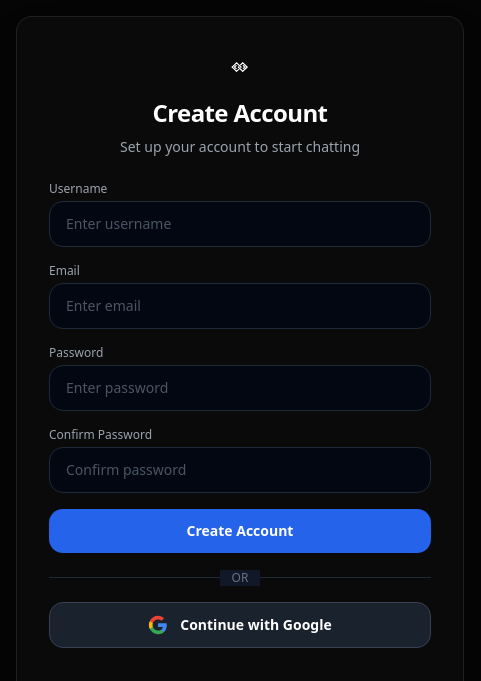
it: Registration page › rejects an invalid email
The image size is (481, 681).
Type "alice" into the field with placeholder "Enter username". click: (240, 224)
box: [49, 201, 431, 247]
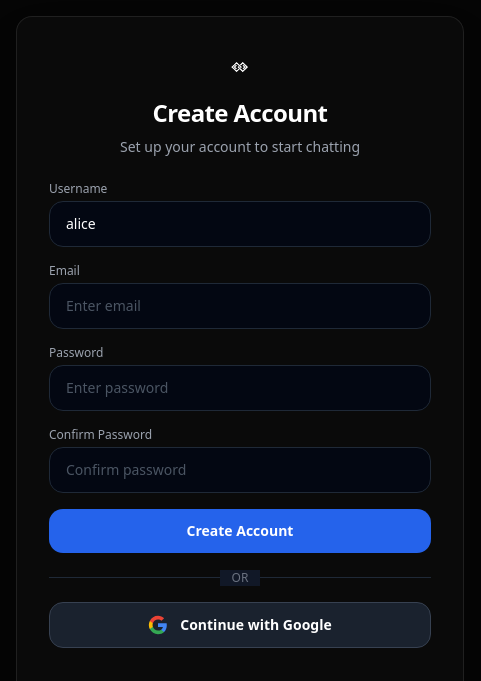
Type "not-an-email" into the field with placeholder "Enter email". click: (240, 306)
box: [49, 283, 431, 329]
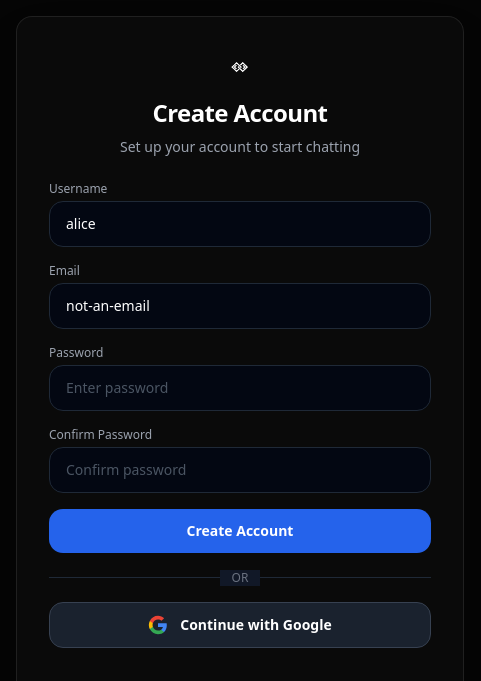
Type "password1" into the password field with placeholder "Enter password". click: (240, 388)
box: [49, 365, 431, 411]
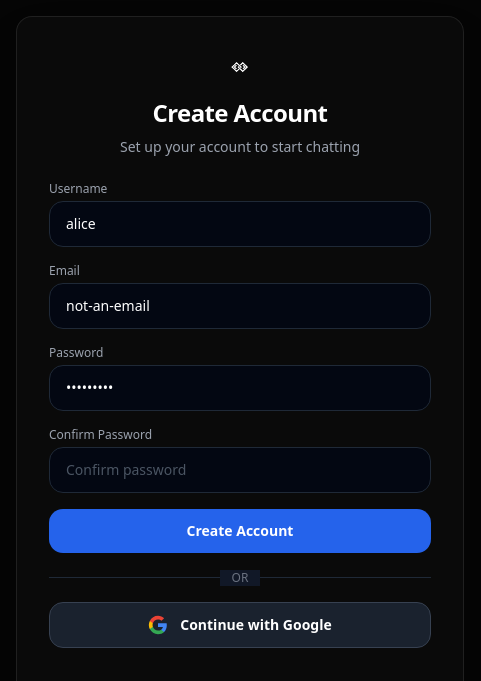
Type "password1" into the password field with placeholder "Confirm password". click: (240, 470)
box: [49, 447, 431, 493]
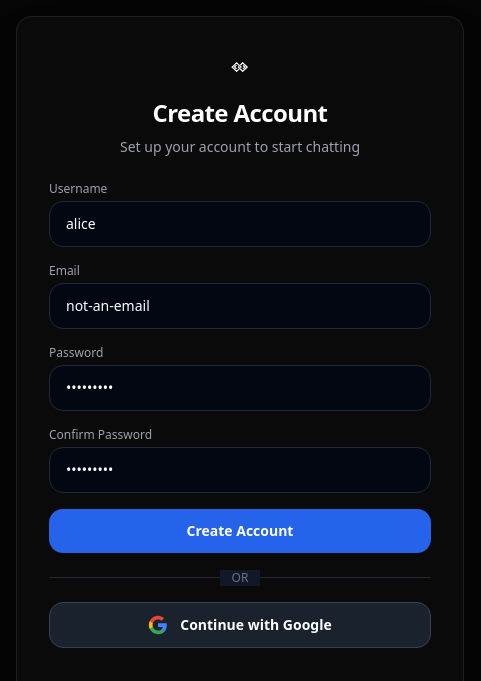
Submit the form with placeholder "Enter username", box [49, 181, 431, 553]
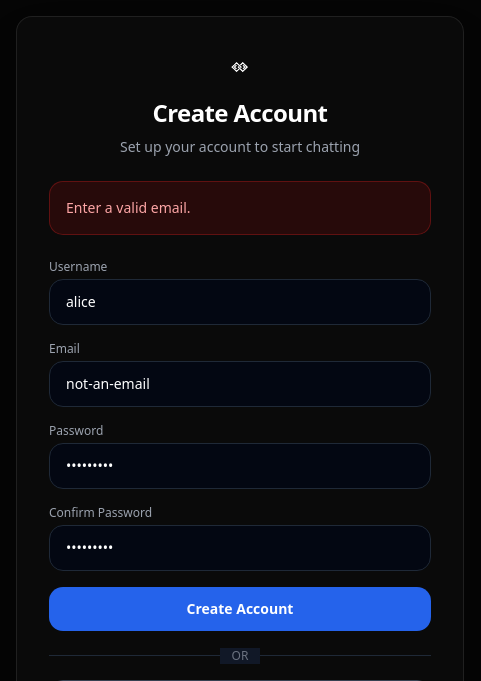
expect the text "Enter a valid email." is shown: met, box [49, 181, 431, 235]
